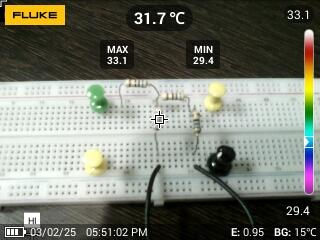resistor: (190, 108, 203, 137), (158, 90, 187, 102), (122, 78, 150, 89), (154, 106, 163, 133)
